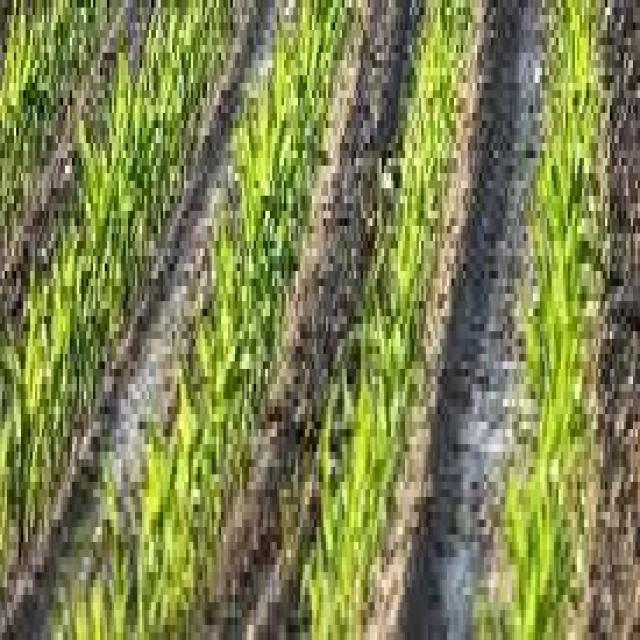row: (0, 2, 300, 640), (168, 3, 424, 638), (361, 0, 558, 637), (0, 6, 167, 389), (557, 0, 640, 640)
